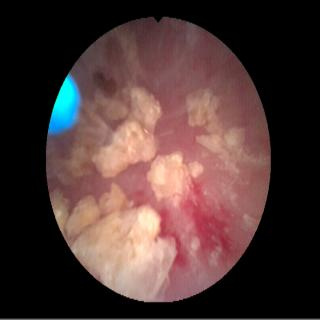fiber: (50, 75, 79, 132)
stone: (51, 185, 176, 297), (94, 88, 161, 178), (188, 90, 244, 162), (145, 152, 202, 201)
